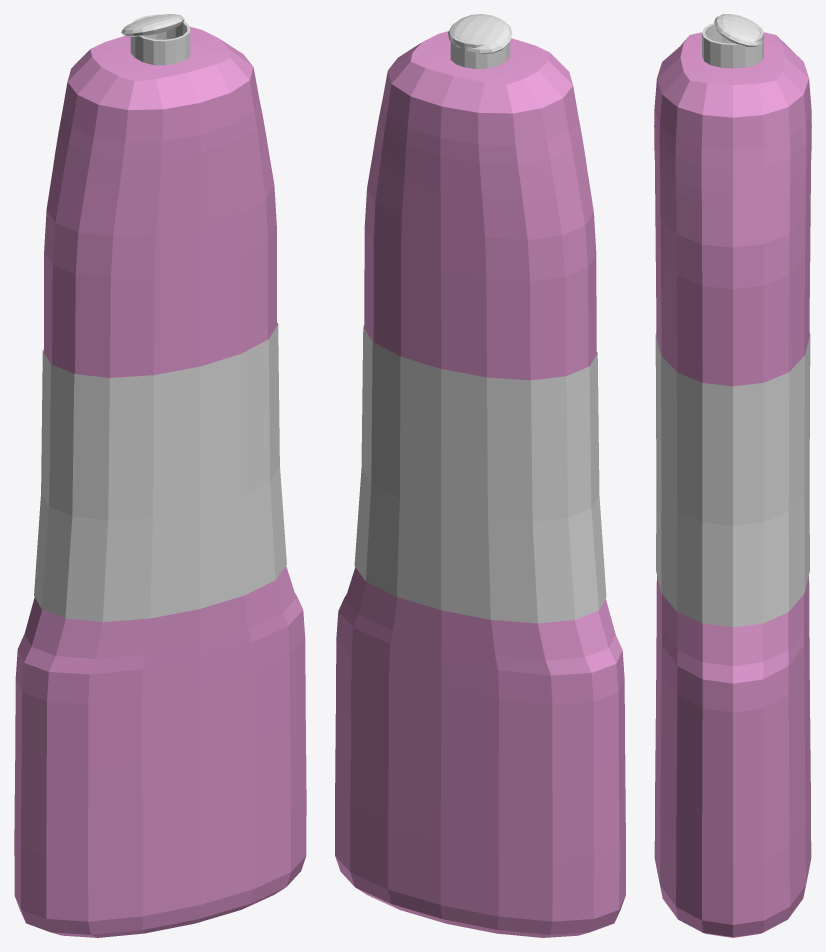
The model's file is bottle.fbx.
3 views of the same model, side by side, from view 1: azimuth 30°, elevation 25°; view 2: azimuth 150°, elevation 25°; view 3: azimuth 270°, elevation 25° (orthographic). The views are drawn at different scales.
Parts seen in each view (by area): view 1: Plane.005; view 2: Plane.005; view 3: Plane.005.
Boxes of the visible parts, x1,y1,x2,y2 form: Plane.005: (14, 14, 306, 937); Plane.005: (335, 14, 625, 937); Plane.005: (654, 14, 811, 937).
Bounding box in the file's own units: 12.13 × 36.82 × 6.09.
